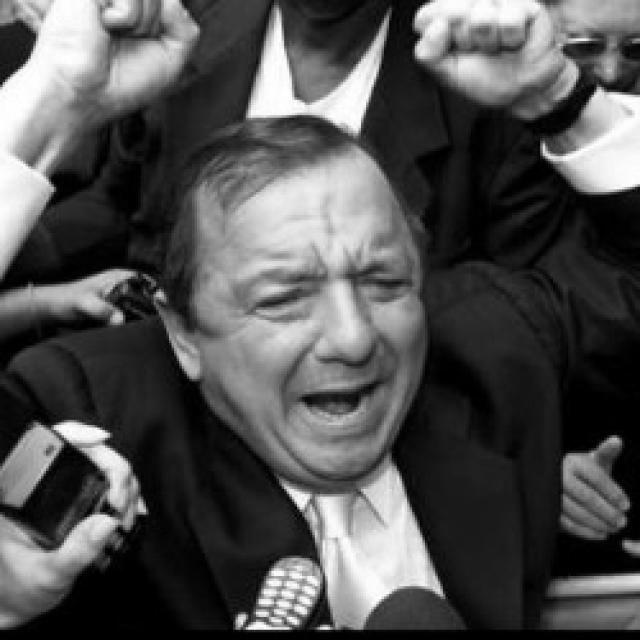real: (169, 128, 436, 494), (240, 262, 416, 322)
